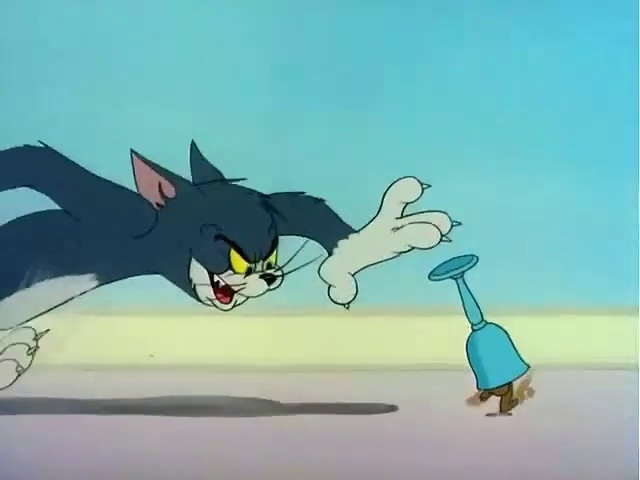tom: (2, 108, 454, 396)
